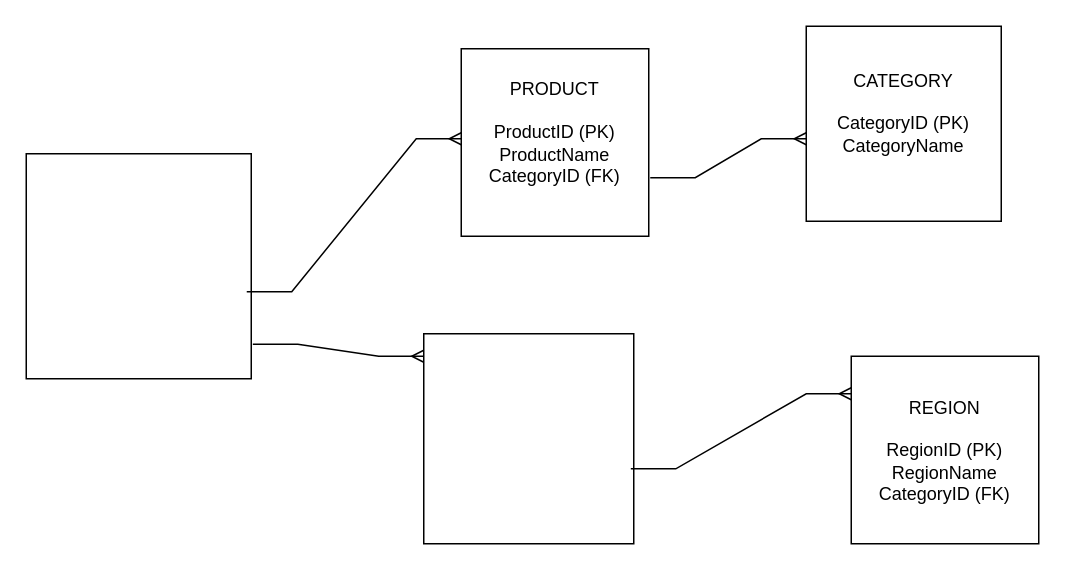
Some shapes in this 1065 by 570 pixel diagram are drawn without their labels. The shapes that lost their labels are listed below. From the top down, each one's centre as x and y in pixels, then its label:
point 138,265: SALES SaleID (PK) SalesDate Quantity UnitPrice ProductID (FK) CountryID (FK)
point 528,438: COUNTRY CountryID (PK) CountryName RegionID (FK)
